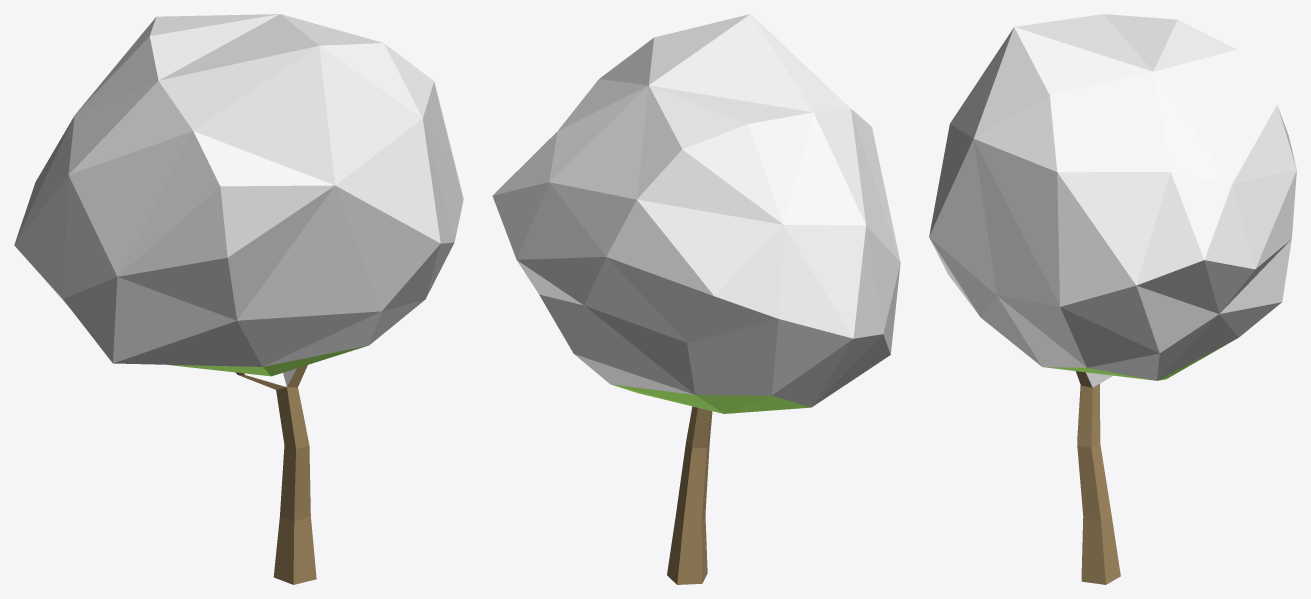
File: Apple_Tree_m_Snow_BT_03.fbx
3 views of the same model, side by side, from view 1: azimuth 30°, elevation 25°; view 2: azimuth 150°, elevation 25°; view 3: azimuth 270°, elevation 25° (orthographic). The views are drawn at different scales.
Visible parts, largest first — view 1: Apple_Tree_m_Snow_BT_03; view 2: Apple_Tree_m_Snow_BT_03; view 3: Apple_Tree_m_Snow_BT_03.
Boxes of the visible parts, box(x1,y1,x2,y2) form: Apple_Tree_m_Snow_BT_03: box(14, 14, 463, 584); Apple_Tree_m_Snow_BT_03: box(492, 14, 900, 584); Apple_Tree_m_Snow_BT_03: box(929, 14, 1296, 584).
Size of the model in its own units: 510 by 711 by 439.
